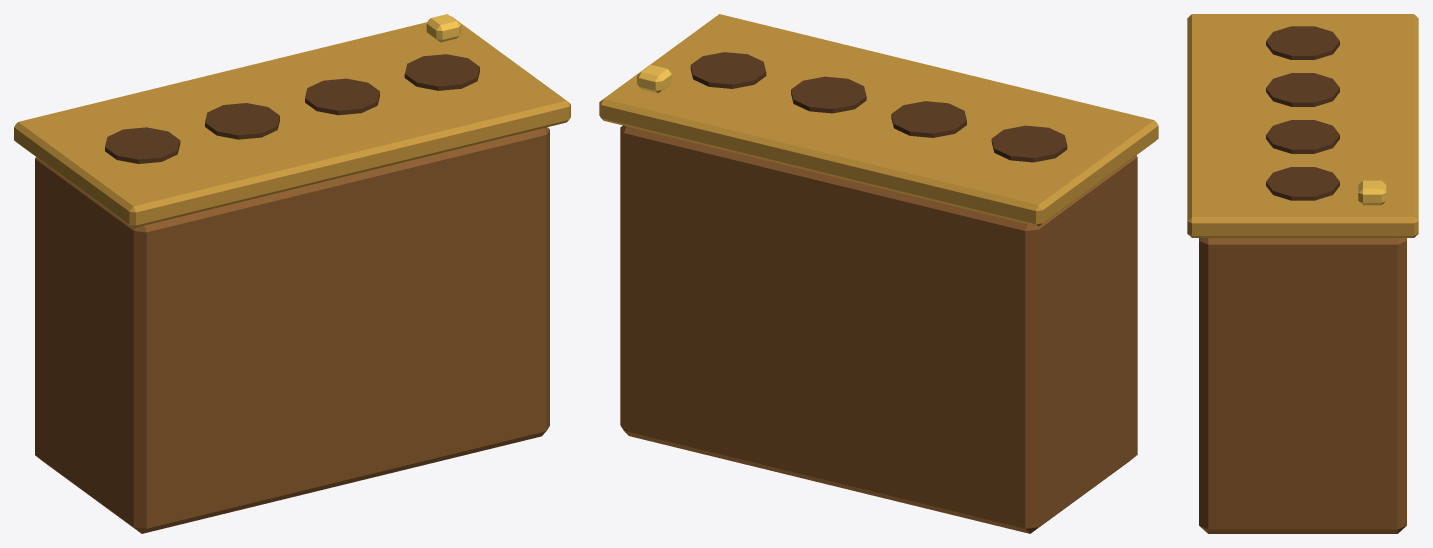
File: PR_Furniture_Servis.fbx
3 views of the same model, side by side, from view 1: azimuth 30°, elevation 25°; view 2: azimuth 150°, elevation 25°; view 3: azimuth 270°, elevation 25° (orthographic). The views are drawn at different scales.
Parts seen in each view (by area): view 1: PR_Furniture_Servis; view 2: PR_Furniture_Servis; view 3: PR_Furniture_Servis.
Boxes of the visible parts, box(x1,y1,x2,y2) form: PR_Furniture_Servis: box(14, 14, 570, 533); PR_Furniture_Servis: box(599, 14, 1158, 533); PR_Furniture_Servis: box(1187, 14, 1418, 533).
Size of the model in its own units: 1.06 by 0.82 by 0.5.
1 material, 1 textured.
